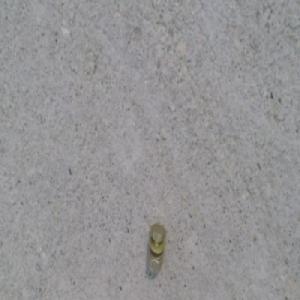BoltNutSet: (147, 224, 165, 271)
